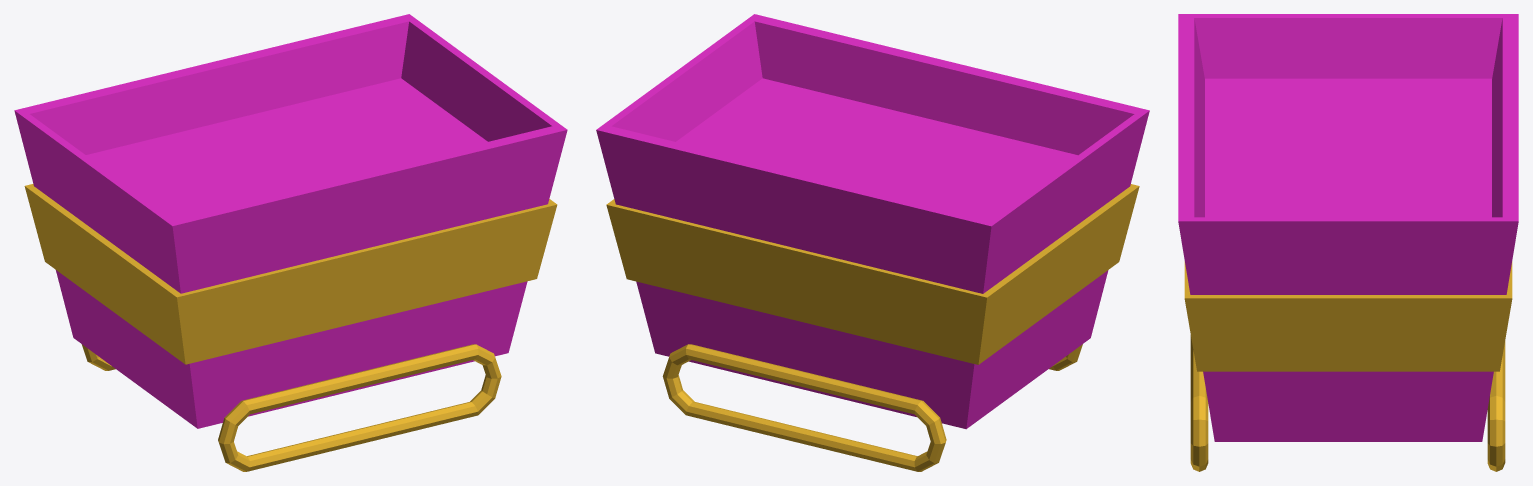
Rendered from MineCart.fbx.
The picture shows the model from 3 angles, left to right: view 1: azimuth 30°, elevation 25°; view 2: azimuth 150°, elevation 25°; view 3: azimuth 270°, elevation 25°; orthographic projection. The views are drawn at different scales.
Parts seen in each view (by area): view 1: Carrinho; view 2: Carrinho; view 3: Carrinho.
Part boxes in pixels (bbox=[...]): Carrinho: bbox=[14, 14, 567, 471]; Carrinho: bbox=[596, 14, 1149, 471]; Carrinho: bbox=[1178, 14, 1518, 471].
Size of the model in its own units: 516 by 341 by 358.
